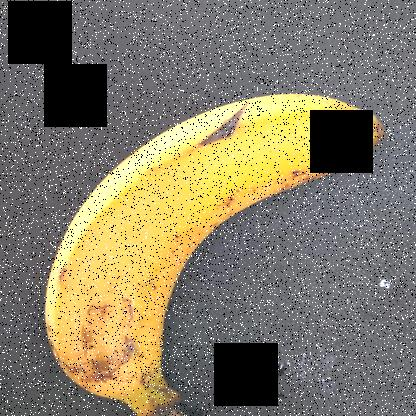ripe: (11, 63, 377, 415)
